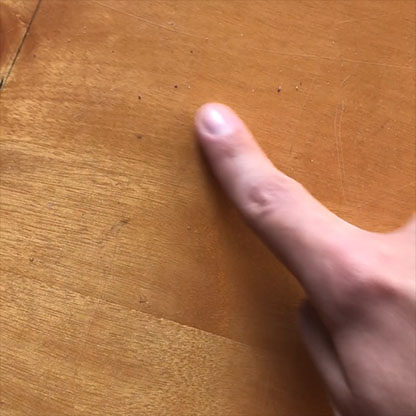fingertip: (188, 95, 257, 154)
